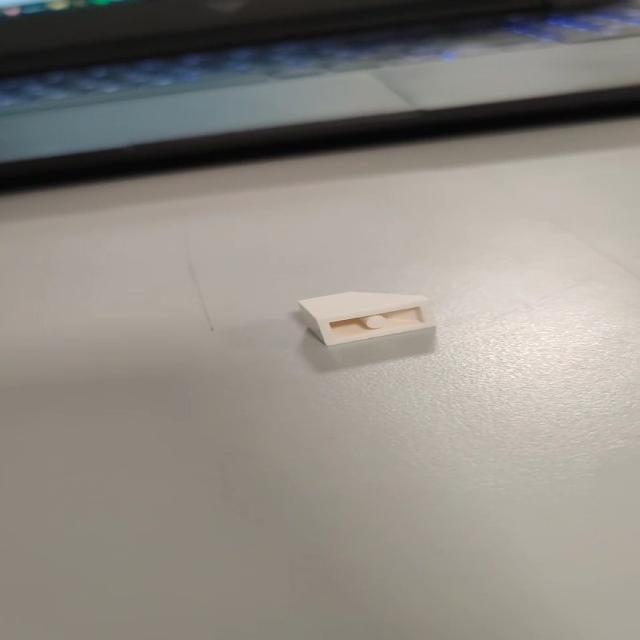P1x2x1: (292, 289, 448, 349)
